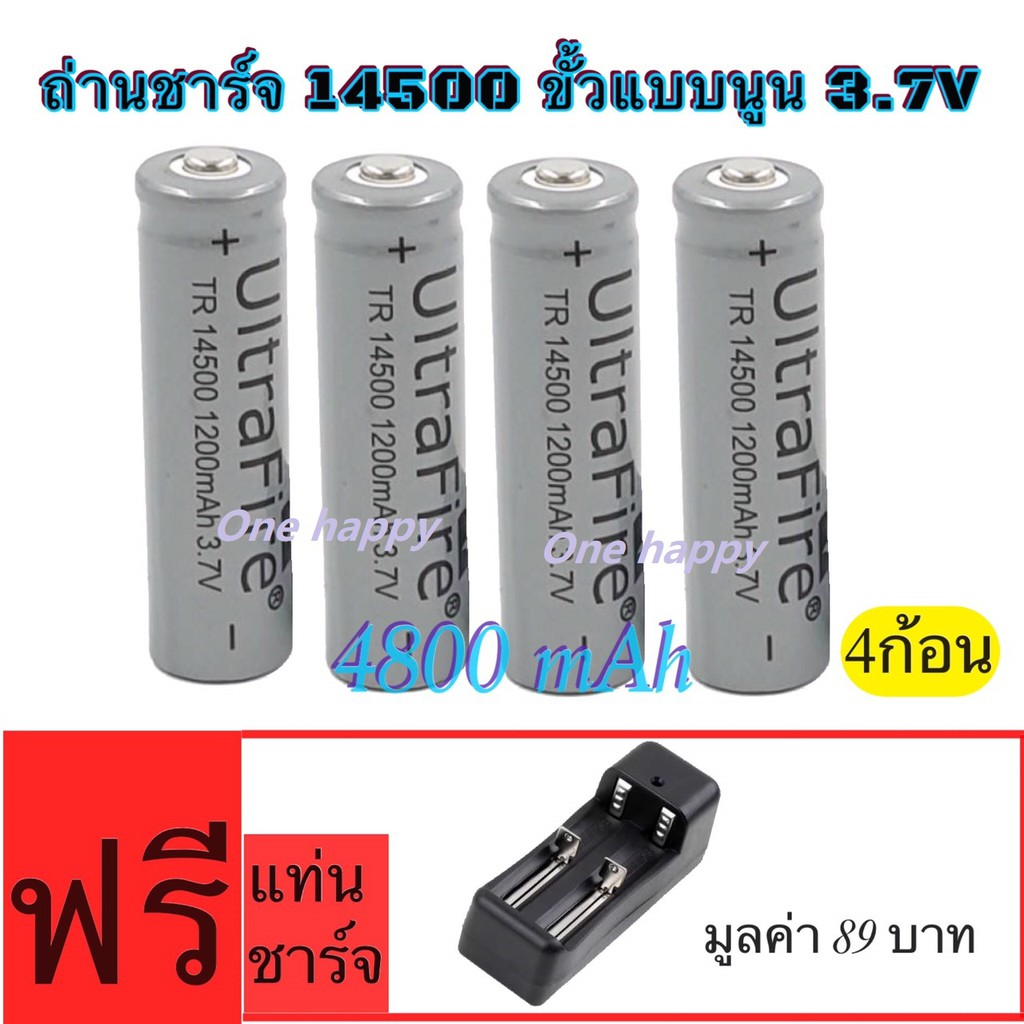Battery: (666, 146, 842, 699), (131, 137, 301, 689), (311, 146, 476, 697), (482, 145, 644, 698)
